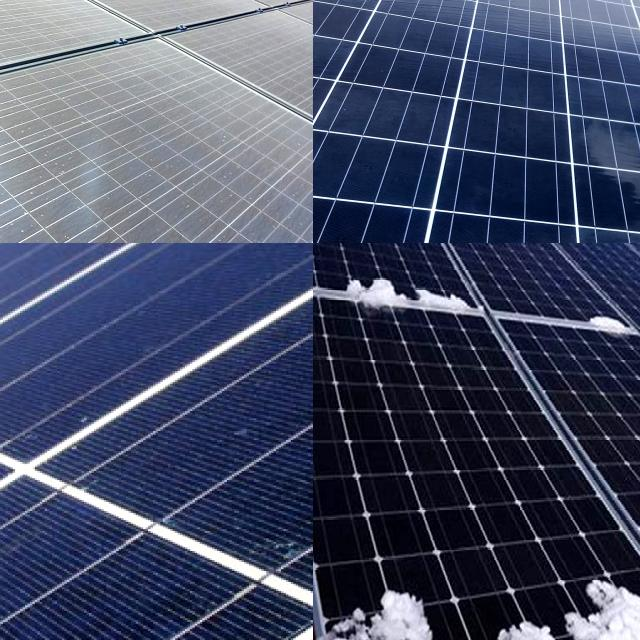crack: (0, 243, 313, 640), (313, 0, 640, 243)
dust: (0, 154, 236, 243), (112, 45, 245, 142), (250, 103, 313, 219), (0, 79, 98, 138), (252, 0, 313, 79), (0, 0, 92, 47), (0, 0, 55, 74), (0, 0, 102, 34), (89, 0, 208, 27), (0, 0, 69, 37), (0, 0, 29, 61), (0, 0, 62, 27)
panel: (338, 258, 474, 339), (355, 243, 571, 285), (313, 588, 446, 640), (563, 560, 640, 640), (580, 294, 638, 340), (313, 243, 393, 271), (412, 243, 496, 263), (495, 621, 562, 640), (521, 243, 583, 261)
